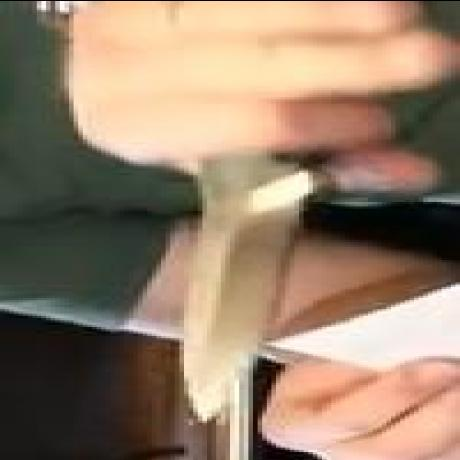1: (0, 0, 460, 460)
weapon: (175, 138, 304, 424)
